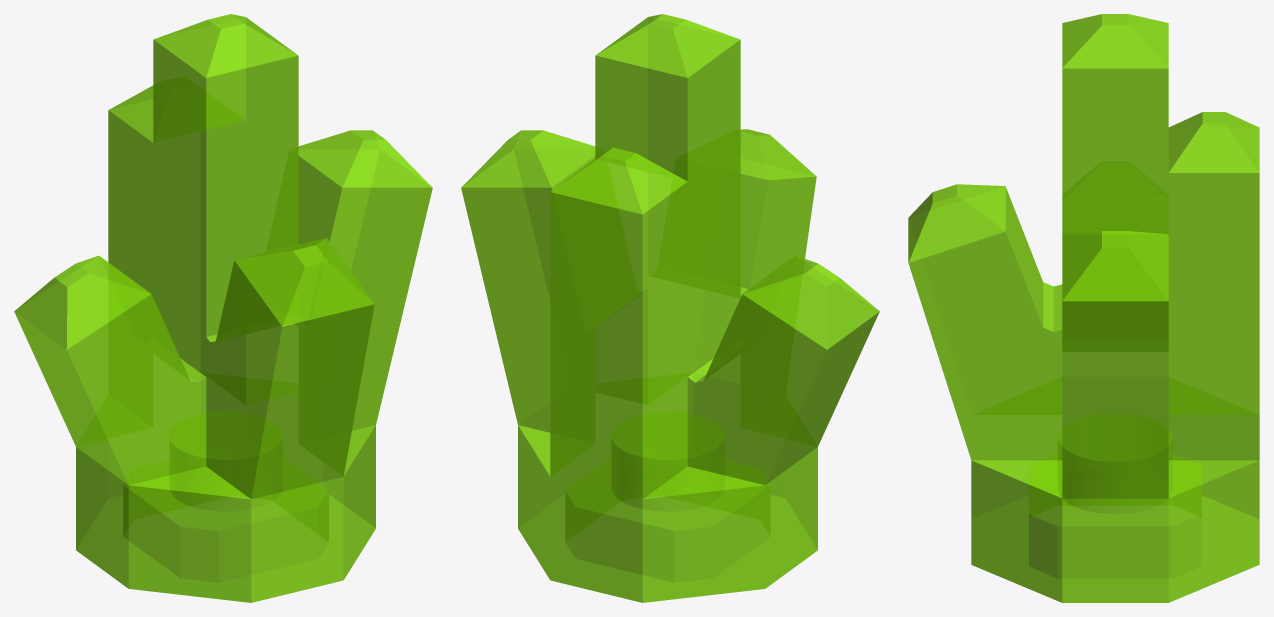
Rendered from crystal.glb.
3 views of the same model, side by side, from view 1: azimuth 30°, elevation 25°; view 2: azimuth 150°, elevation 25°; view 3: azimuth 270°, elevation 25° (orthographic).
Parts seen in each view (by area): view 1: LEGO Rock Crystal; view 2: LEGO Rock Crystal; view 3: LEGO Rock Crystal.
Boxes of the visible parts, left/top/right/bottom form: LEGO Rock Crystal: left=14, top=14, right=432, bottom=602; LEGO Rock Crystal: left=461, top=14, right=879, bottom=602; LEGO Rock Crystal: left=908, top=14, right=1259, bottom=602.
Size of the model in its own units: 0.4341 by 0.5868 by 0.3574.
